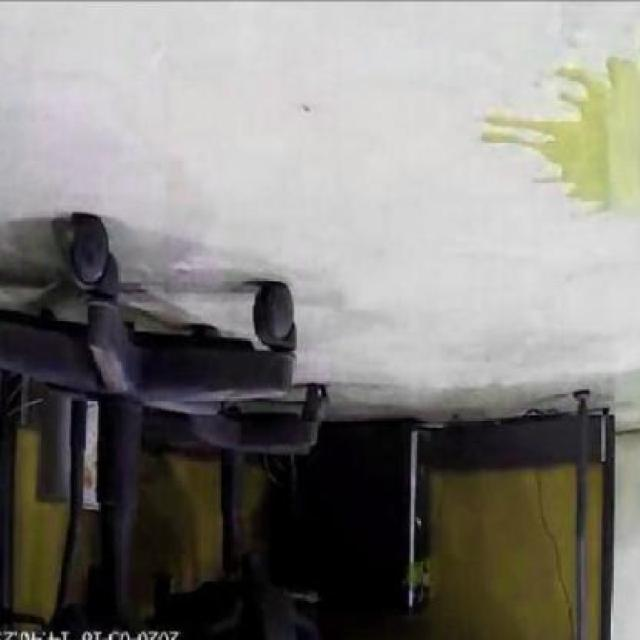spillage: (480, 59, 640, 213)
